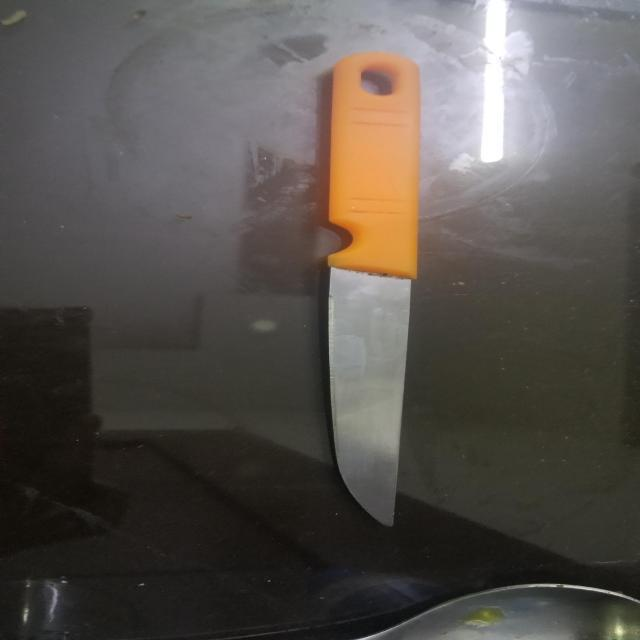Knife: (304, 53, 436, 527)
